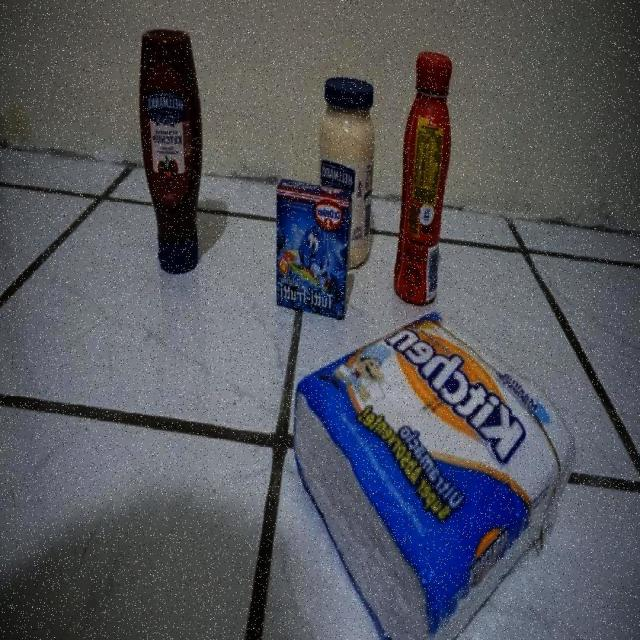ChocolateMilk: (392, 49, 455, 305)
Gelatine: (271, 179, 351, 317)
Ketchup: (139, 27, 204, 273)
Mayonnaise: (319, 73, 373, 268)
Napkin: (290, 311, 579, 640)
